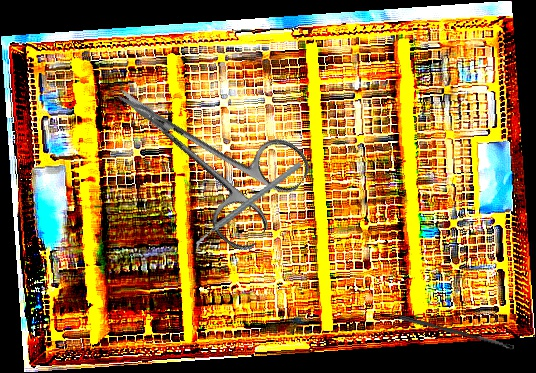Chopper: (179, 160, 316, 254)
Iris Scissors: (87, 43, 317, 257)
Surgical Spoon: (397, 314, 515, 351)
